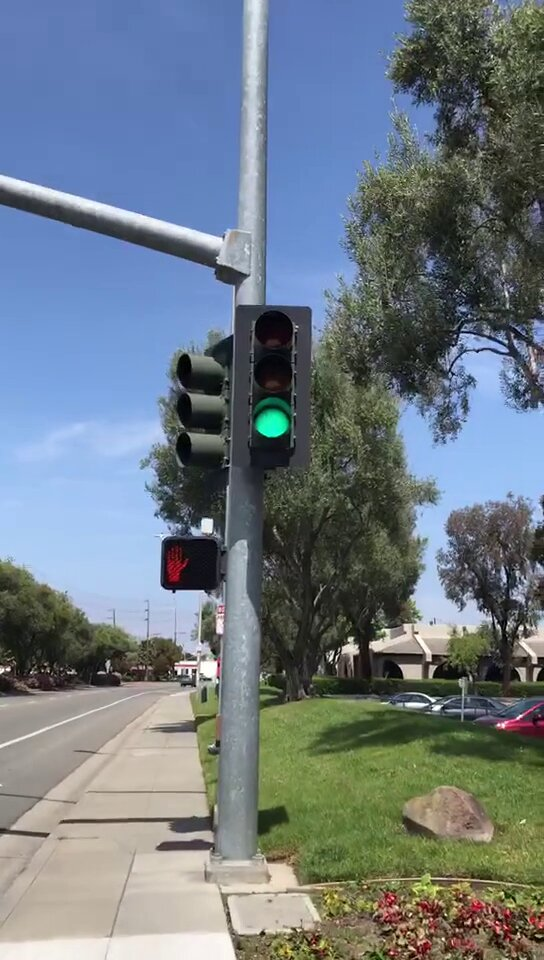green_light: (242, 308, 300, 457)
